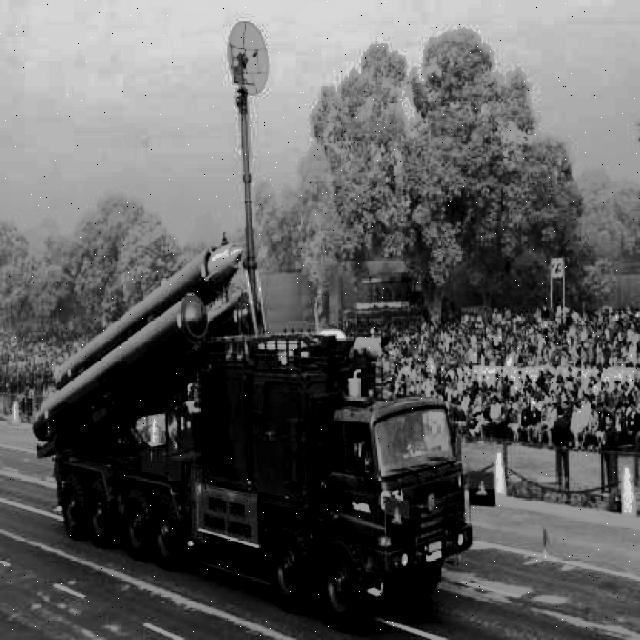HCV: (24, 247, 469, 640)
